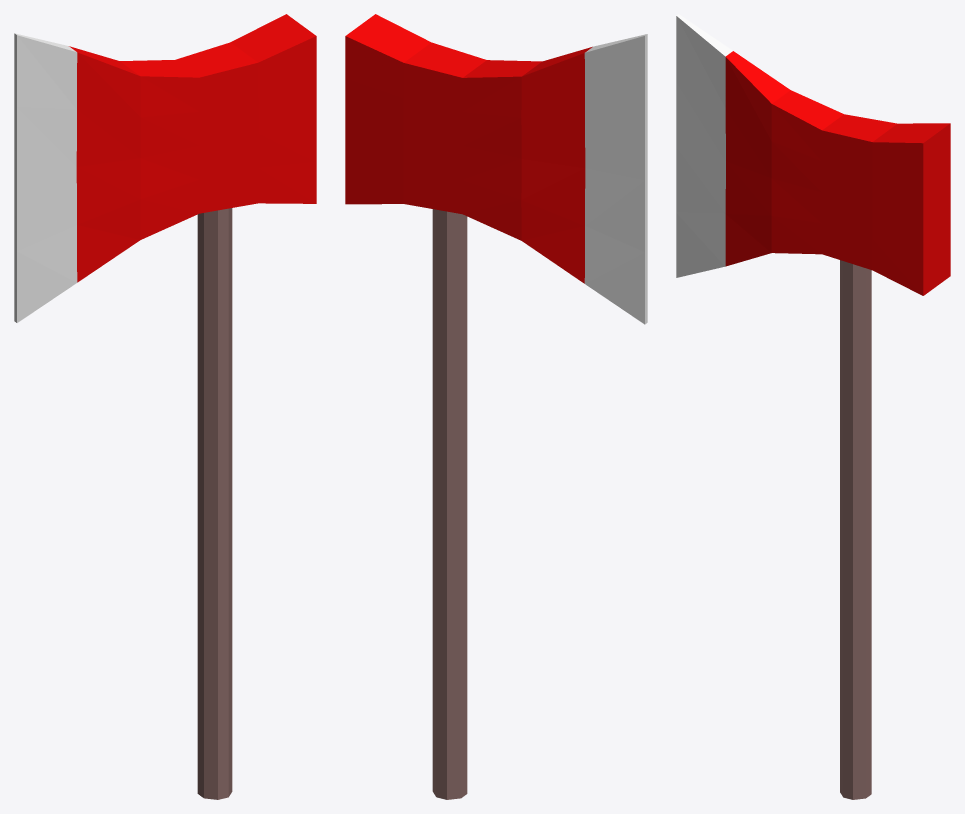
Rendered from Axe.fbx.
3 views of the same model, side by side, from view 1: azimuth 30°, elevation 25°; view 2: azimuth 150°, elevation 25°; view 3: azimuth 330°, elevation 25° (orthographic). The views are drawn at different scales.
Parts seen in each view (by area): view 1: axe; view 2: axe; view 3: axe.
Boxes of the visible parts, left/top/right/bottom form: axe: left=14, top=14, right=316, bottom=799; axe: left=345, top=14, right=647, bottom=799; axe: left=676, top=14, right=950, bottom=799.
Bounding box in the file's own units: 28.81 × 77.69 × 5.25.
